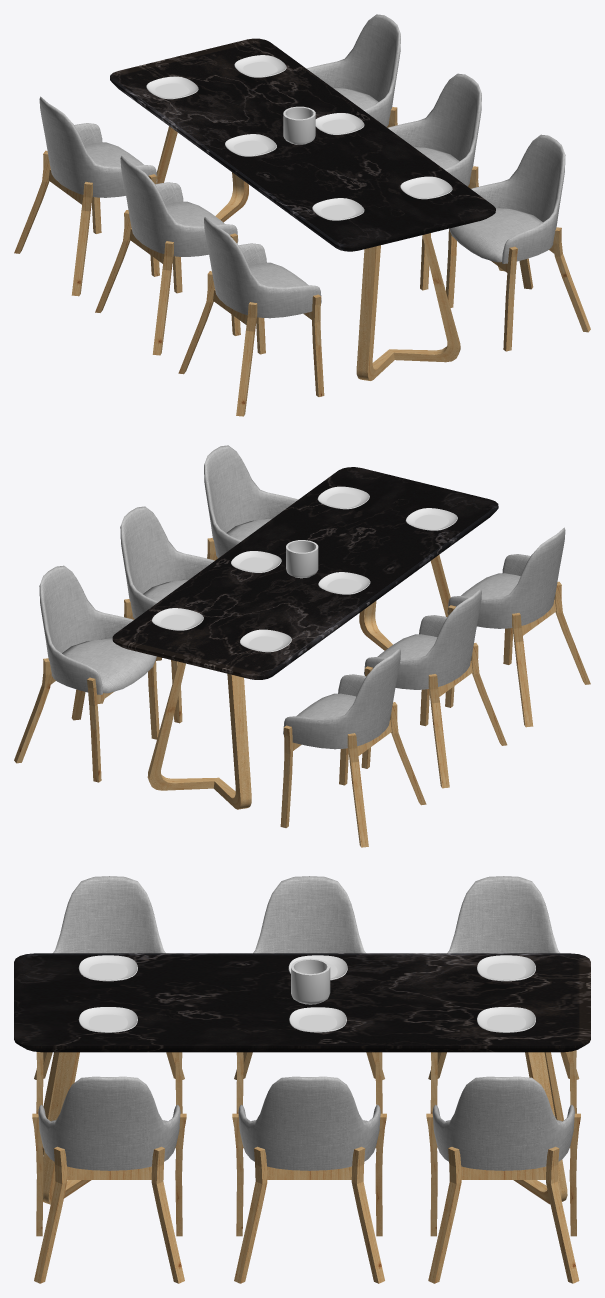
File: Six_Seater_Dining_Table_03.fbx
3 views of the same model, one above another, from view 1: azimuth 30°, elevation 25°; view 2: azimuth 150°, elevation 25°; view 3: azimuth 270°, elevation 25° (orthographic). The views are drawn at different scales.
Parts seen in each view (by area): view 1: Chair.001, Table.001; view 2: Chair.001, Table.001; view 3: Chair.001, Table.001.
Part boxes in pixels (x1,y1,x2,y2): Chair.001: (14, 14, 590, 416); Table.001: (110, 38, 495, 380); Chair.001: (14, 445, 590, 847); Table.001: (112, 467, 498, 809); Chair.001: (32, 876, 580, 1283); Table.001: (14, 953, 590, 1204).
Bounding box in the file's own units: 193 × 91.81 × 226.
Materials: 2 (1 with a texture image).
